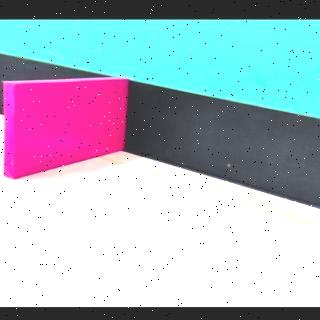xparking: (6, 82, 120, 176)
